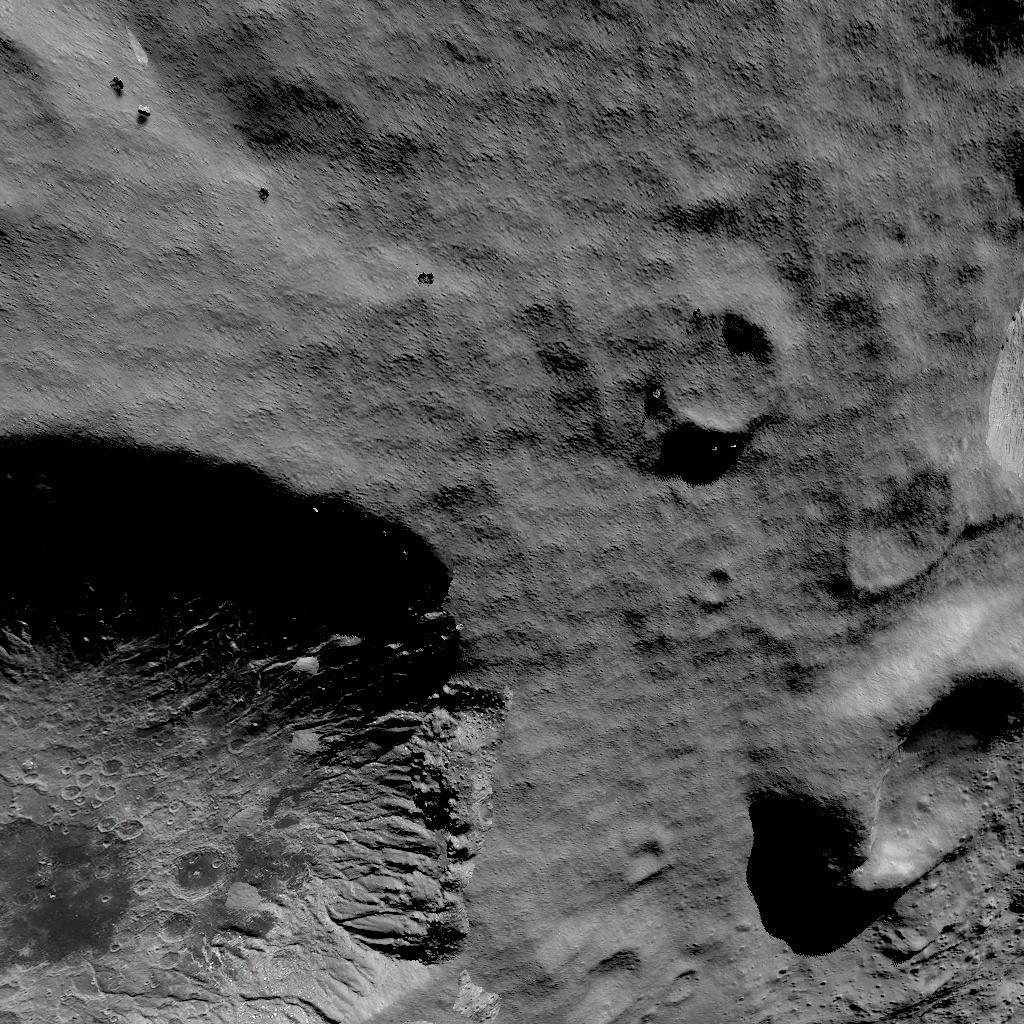Crater: (0, 414, 490, 1024), (733, 620, 1024, 960), (649, 306, 788, 456), (819, 472, 967, 600), (559, 940, 656, 1024)
Plan surface: (247, 0, 925, 182), (0, 216, 416, 401)
